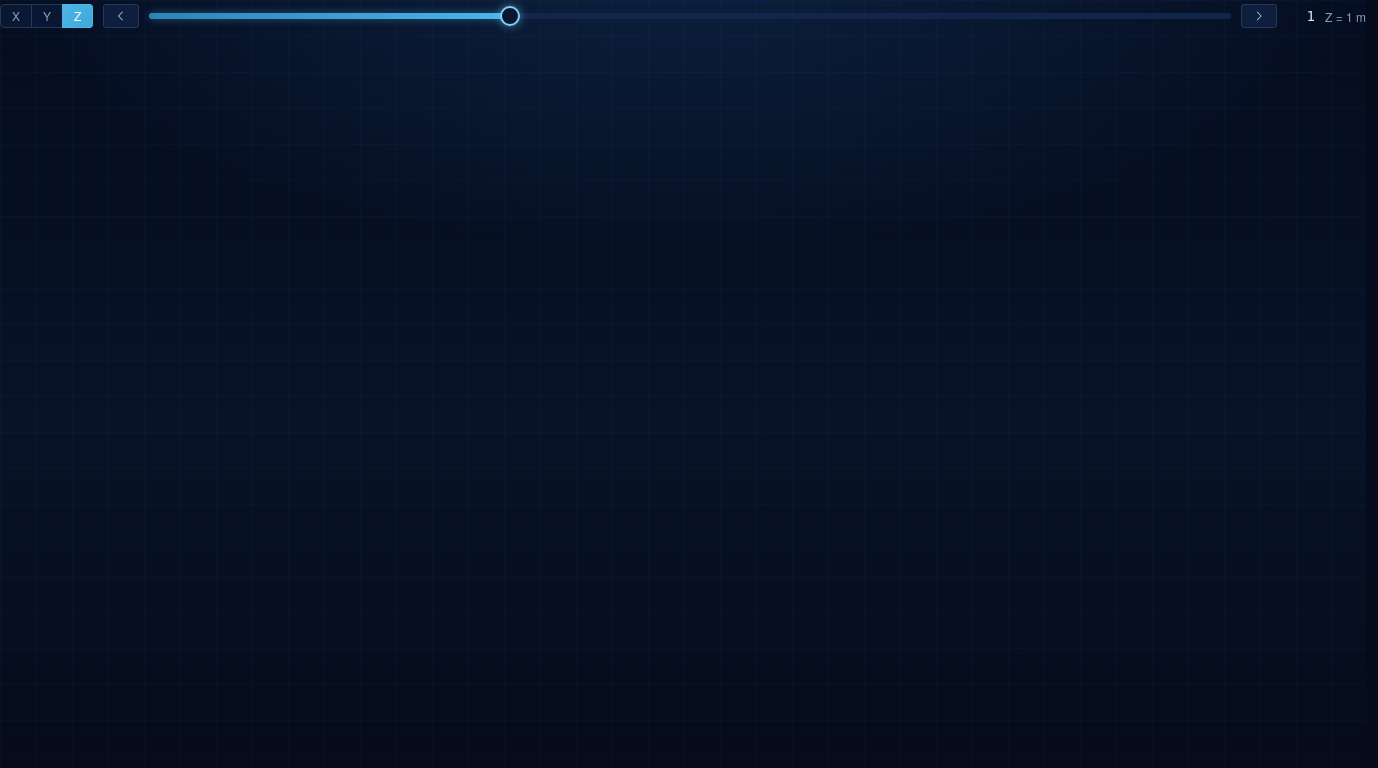
OrthogonalSliceControls › 切换轴恢复该轴自己的当前索引与真实坐标
This screenshot has width=1378, height=768.
Click the radio button with test id "axis-y". click: [48, 16]
box: x1=32 y1=4 x2=63 y2=28
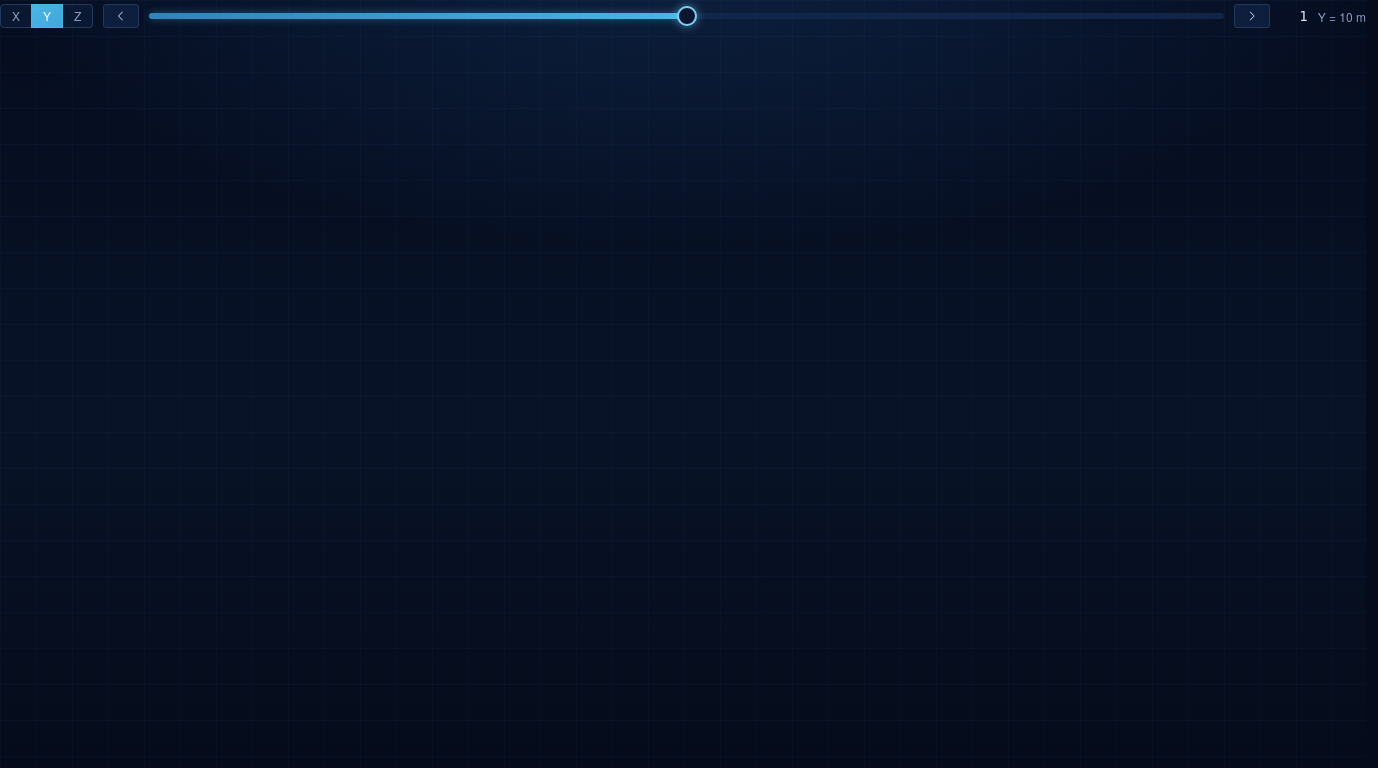
Expected: the text with test id "slice-index-value" reads "1", x1=1299 y1=8 x2=1308 y2=24
Now the text with test id "slice-coordinate" shows "10", box x1=1318 y1=8 x2=1366 y2=24
Click the radio button with test id "axis-z". click: [78, 16]
box: x1=63 y1=4 x2=93 y2=28
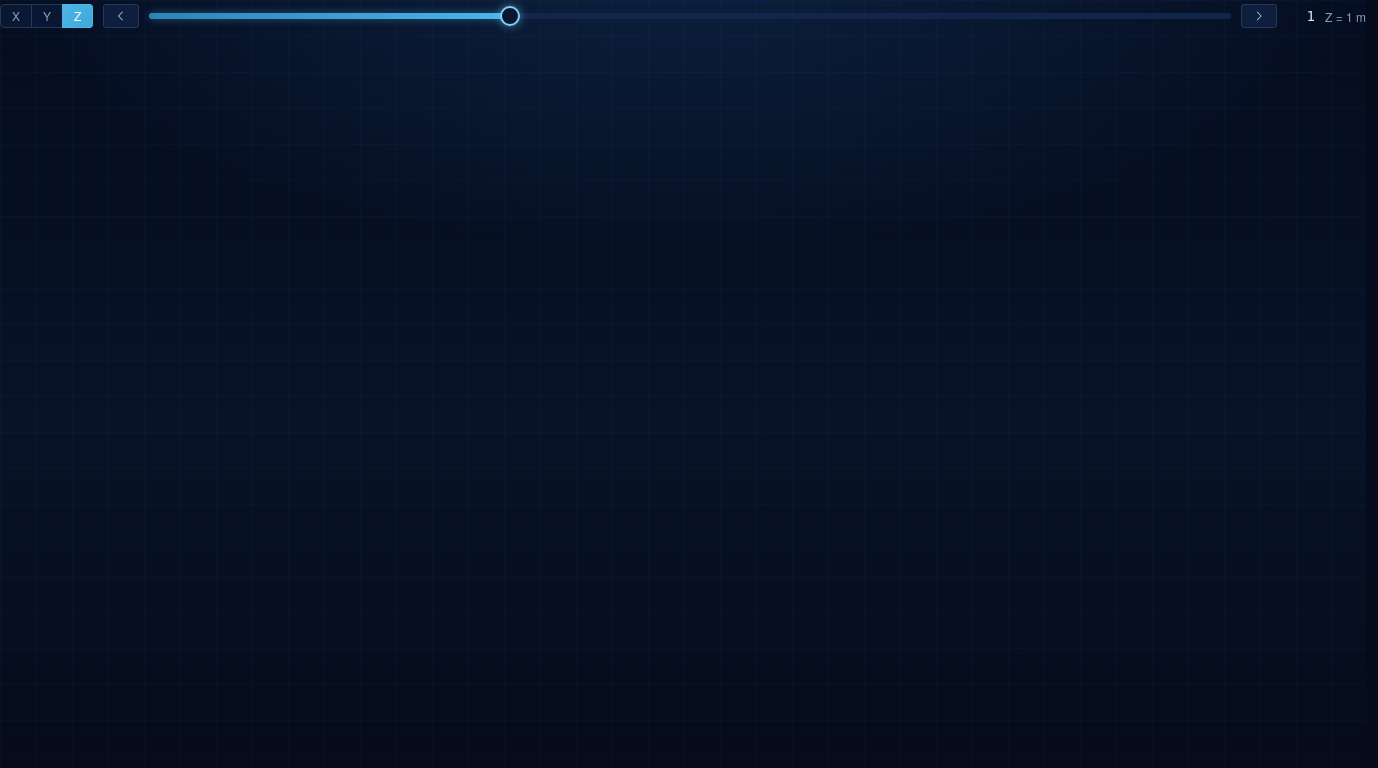
Expected: the text with test id "slice-index-value" reads "1", x1=1306 y1=8 x2=1315 y2=24
Expected: the text with test id "slice-coordinate" shows "1", x1=1325 y1=8 x2=1366 y2=24
Click the radio button with test id "axis-x". click: [16, 16]
box: x1=0 y1=4 x2=32 y2=28
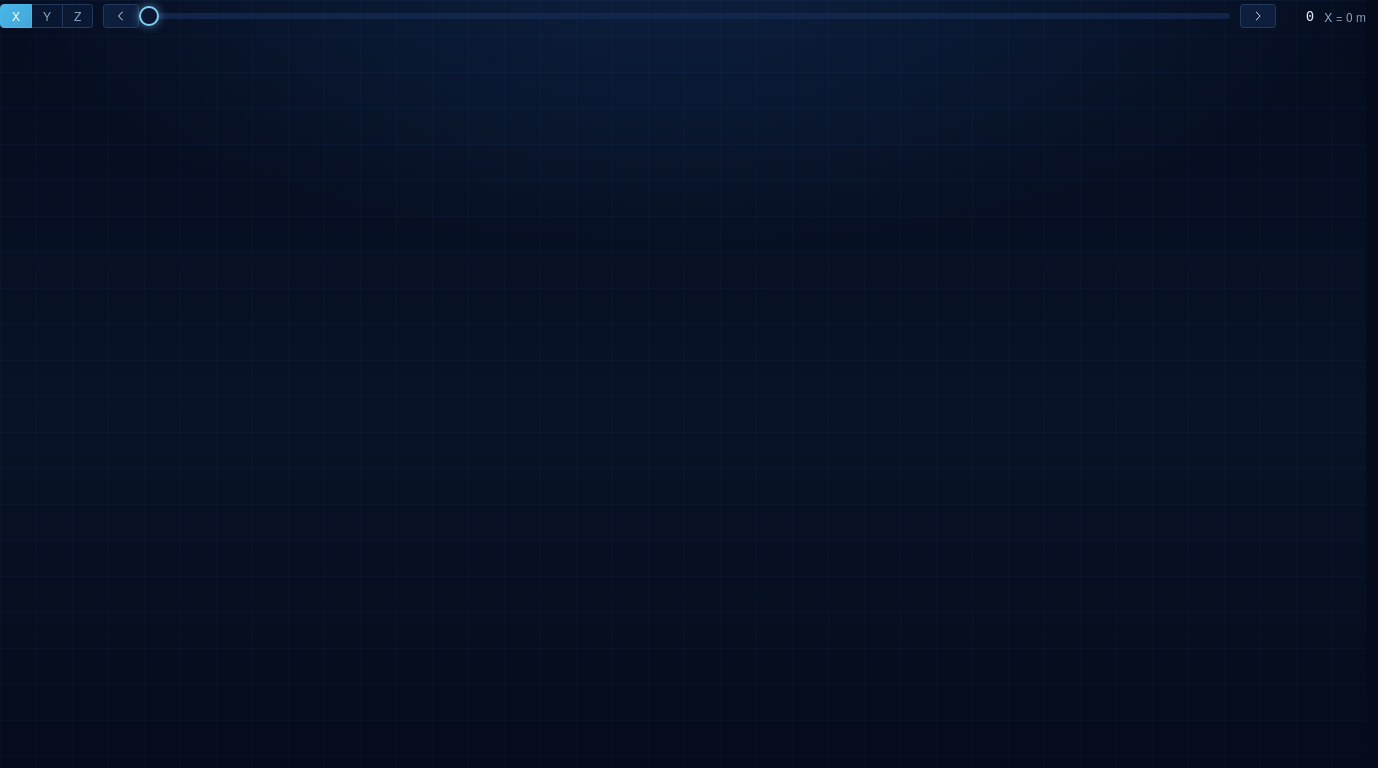
Now the text with test id "slice-index-value" reads "0", box x1=1306 y1=8 x2=1314 y2=24
